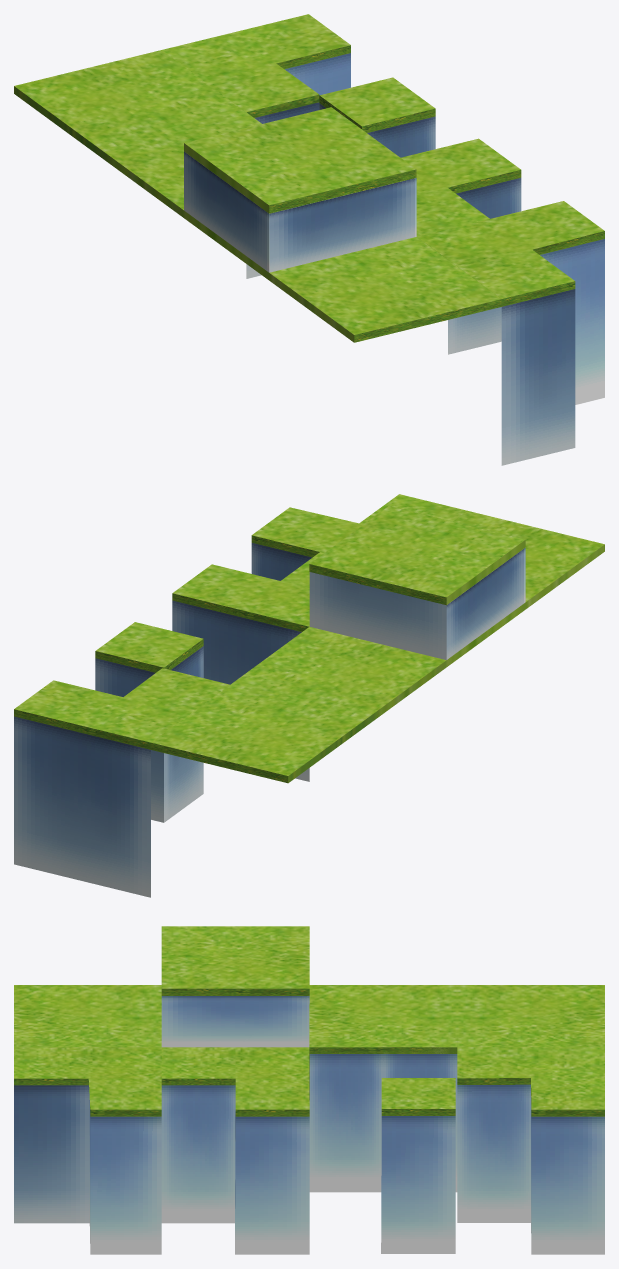
Rendered from a_ESDground01g.glb.
3 views of the same model, one above another, from view 1: azimuth 30°, elevation 25°; view 2: azimuth 150°, elevation 25°; view 3: azimuth 270°, elevation 25° (orthographic). The views are drawn at different scales.
Visible parts, largest first — view 1: a_ESDground01g; view 2: a_ESDground01g; view 3: a_ESDground01g.
Boxes of the visible parts, box(x1,y1,x2,y2) form: a_ESDground01g: box(14, 14, 604, 465); a_ESDground01g: box(14, 494, 604, 897); a_ESDground01g: box(14, 926, 604, 1254).
Bounding box in the file's own units: 2 × 1.52 × 4.
2 materials, 2 textured.
